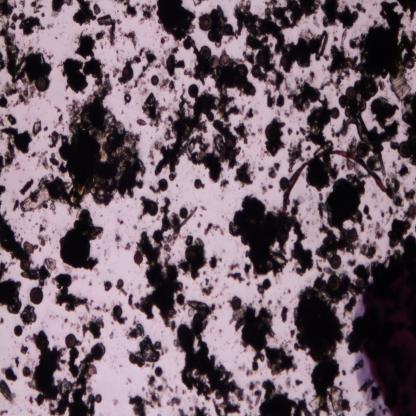Background material: (58, 77, 146, 208), (175, 291, 243, 414), (295, 274, 352, 416), (230, 195, 315, 276), (152, 90, 219, 180), (350, 16, 416, 99), (134, 230, 185, 326), (317, 175, 367, 260), (0, 19, 52, 81), (230, 304, 272, 372), (28, 328, 65, 404), (58, 220, 104, 271), (244, 36, 284, 89), (18, 175, 73, 213), (213, 63, 241, 130), (260, 380, 312, 416), (236, 16, 286, 52), (156, 0, 196, 40), (52, 274, 91, 314), (56, 378, 96, 416), (288, 30, 329, 66), (348, 77, 381, 118), (0, 209, 26, 260), (304, 99, 332, 144), (183, 38, 212, 80), (328, 46, 360, 84), (127, 335, 163, 368), (160, 197, 196, 229), (289, 82, 323, 115), (185, 233, 209, 277), (402, 92, 416, 166), (322, 0, 367, 23), (210, 5, 234, 48), (190, 154, 226, 182), (284, 2, 321, 29), (140, 94, 166, 132), (264, 346, 298, 375), (62, 58, 88, 95), (369, 124, 401, 154), (387, 217, 416, 249), (370, 97, 401, 124), (0, 127, 32, 153), (0, 278, 22, 315), (286, 138, 306, 172), (3, 81, 30, 106), (74, 0, 98, 28), (309, 161, 332, 190), (386, 178, 406, 209), (76, 30, 96, 61), (82, 58, 104, 86), (235, 2, 276, 17), (19, 12, 45, 35), (20, 266, 51, 285), (320, 16, 359, 31), (164, 47, 184, 75), (80, 317, 105, 339), (140, 48, 162, 72), (117, 28, 139, 51), (233, 122, 256, 144), (128, 394, 152, 415), (234, 162, 254, 186), (30, 150, 50, 172), (0, 380, 16, 405), (19, 304, 37, 326), (5, 139, 17, 170), (149, 385, 165, 408), (121, 0, 138, 21), (139, 2, 155, 24), (265, 141, 285, 158), (67, 350, 79, 378), (50, 0, 74, 13), (241, 80, 258, 98), (127, 323, 146, 339), (262, 88, 277, 108), (18, 178, 34, 196), (373, 221, 385, 244), (204, 223, 225, 236), (401, 186, 416, 204), (108, 19, 118, 46), (256, 278, 271, 296), (209, 254, 223, 272), (189, 403, 207, 416), (138, 198, 148, 221), (226, 271, 245, 282), (0, 0, 13, 16), (245, 380, 262, 392), (114, 66, 123, 88), (398, 163, 411, 178), (260, 183, 276, 195), (202, 278, 214, 294), (160, 81, 177, 92), (94, 303, 111, 314), (44, 257, 57, 271), (98, 13, 112, 26), (362, 204, 372, 222), (48, 132, 59, 148), (276, 93, 287, 108), (166, 396, 181, 407), (0, 262, 9, 280), (50, 152, 59, 170), (4, 113, 17, 125), (32, 121, 42, 136), (0, 152, 6, 177), (124, 56, 142, 64), (245, 394, 254, 410), (30, 0, 44, 10), (340, 28, 348, 45), (244, 262, 253, 277), (270, 164, 279, 179), (127, 294, 135, 310), (280, 306, 288, 322), (147, 374, 156, 388), (245, 109, 256, 120), (96, 30, 106, 42), (0, 52, 6, 72), (347, 258, 359, 268), (52, 117, 65, 126), (286, 122, 294, 136), (92, 3, 102, 14), (37, 235, 47, 246), (228, 262, 240, 271), (104, 280, 113, 292), (285, 377, 292, 392), (255, 165, 265, 175), (20, 344, 29, 355), (12, 199, 20, 211), (37, 224, 47, 233), (220, 179, 230, 188), (11, 12, 19, 23), (177, 408, 188, 416), (136, 118, 147, 126), (124, 93, 132, 104), (114, 233, 122, 244), (289, 327, 296, 339), (13, 356, 20, 368), (123, 242, 132, 251), (0, 184, 7, 195), (150, 153, 156, 165), (10, 23, 18, 32), (310, 69, 317, 79), (296, 379, 304, 386), (199, 205, 207, 211), (42, 125, 48, 132), (40, 12, 46, 18), (333, 36, 338, 43), (0, 316, 4, 324)
Cellulose filter fibre: (344, 114, 388, 178)
Cotton: (281, 145, 388, 216)
Diatom: (184, 246, 200, 264), (30, 287, 43, 306), (78, 208, 92, 225), (200, 14, 213, 31), (399, 141, 412, 158), (265, 124, 278, 141), (207, 53, 220, 70), (345, 85, 357, 103), (35, 77, 49, 92), (199, 45, 212, 61), (267, 359, 280, 375), (328, 276, 340, 293), (330, 254, 342, 270), (237, 62, 249, 78), (91, 344, 103, 360), (152, 228, 164, 244), (19, 257, 31, 272), (147, 202, 158, 218), (188, 83, 199, 99), (122, 66, 134, 80), (86, 365, 98, 379), (357, 144, 369, 158), (225, 134, 237, 148), (230, 296, 241, 311), (112, 304, 122, 320), (133, 251, 143, 267), (274, 6, 285, 20), (4, 367, 15, 381), (158, 177, 168, 192), (66, 334, 76, 349), (219, 53, 230, 66), (347, 229, 358, 242), (252, 64, 262, 78), (339, 95, 350, 107), (176, 293, 186, 306), (24, 241, 33, 255), (22, 365, 31, 379), (280, 177, 289, 191), (356, 277, 366, 289), (250, 360, 260, 372), (407, 204, 416, 217), (323, 162, 332, 175), (330, 108, 340, 119), (197, 150, 206, 162), (280, 56, 289, 68), (179, 208, 188, 219), (154, 366, 163, 377), (14, 325, 23, 336), (116, 278, 125, 288), (193, 179, 202, 189), (150, 76, 159, 86), (349, 296, 357, 307), (208, 31, 216, 42), (0, 96, 8, 107), (255, 394, 261, 408), (95, 394, 102, 403)
Pen: (351, 250, 416, 414)
